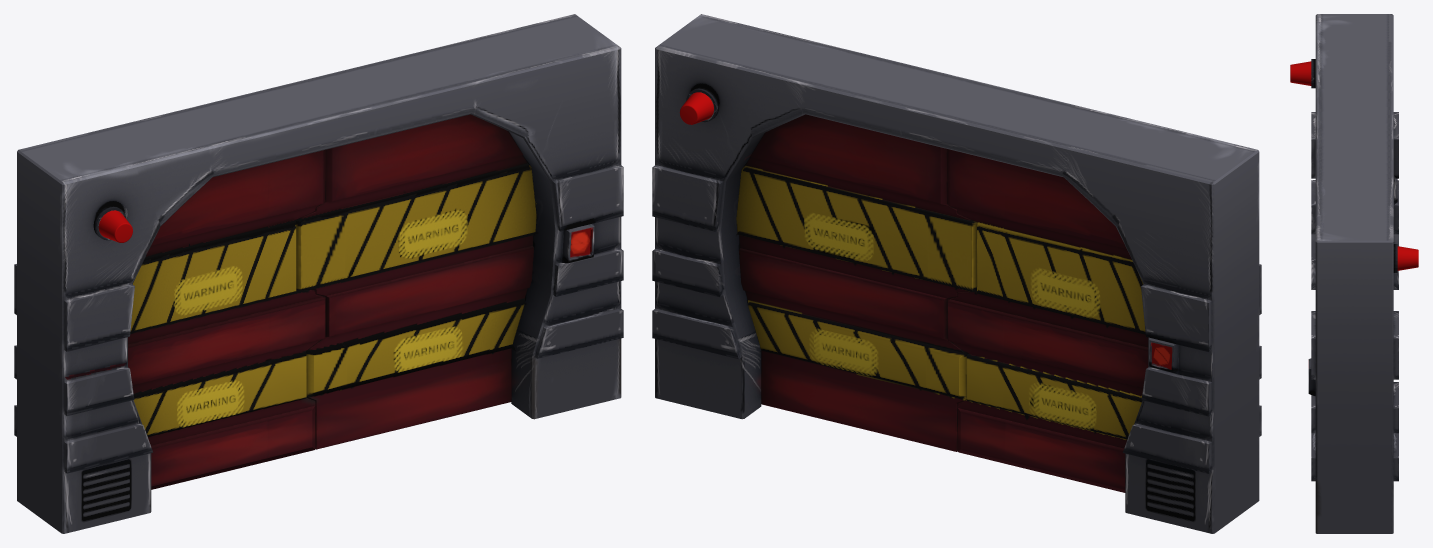
File: blast-door-closed.glb
3 views of the same model, side by side, from view 1: azimuth 30°, elevation 25°; view 2: azimuth 150°, elevation 25°; view 3: azimuth 270°, elevation 25° (orthographic). The views are drawn at different scales.
Visible parts, largest first — view 1: sm_blast_door_closed_fix; view 2: sm_blast_door_closed_fix; view 3: sm_blast_door_closed_fix.
Boxes of the visible parts, left/top/right/bottom form: sm_blast_door_closed_fix: left=14, top=14, right=623, bottom=533; sm_blast_door_closed_fix: left=652, top=14, right=1261, bottom=533; sm_blast_door_closed_fix: left=1290, top=14, right=1418, bottom=533.
Size of what is drawn, in the model's own units: 5.59 by 3.35 by 1.33.
1 material, 1 textured.
